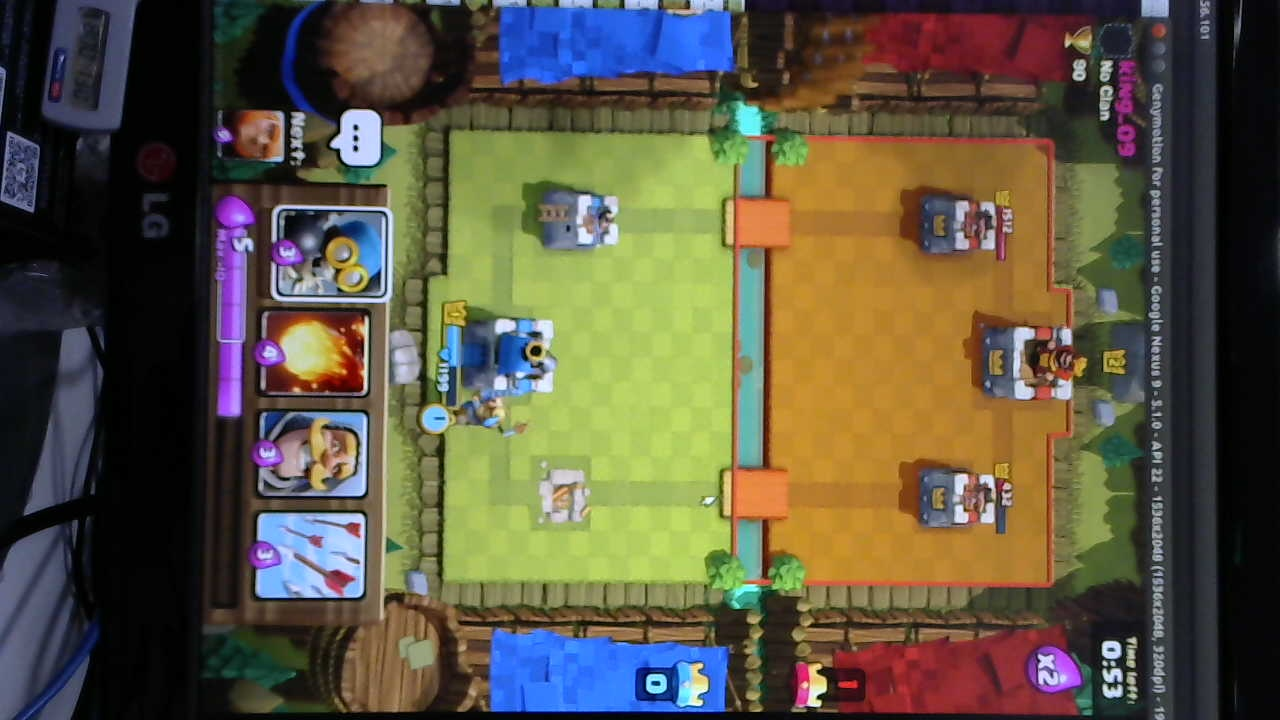arena: (537, 193, 622, 251)
darena: (534, 460, 594, 526)
earena: (918, 473, 998, 532), (919, 197, 998, 256)
eking: (987, 324, 1088, 406)
king: (470, 316, 561, 398)
